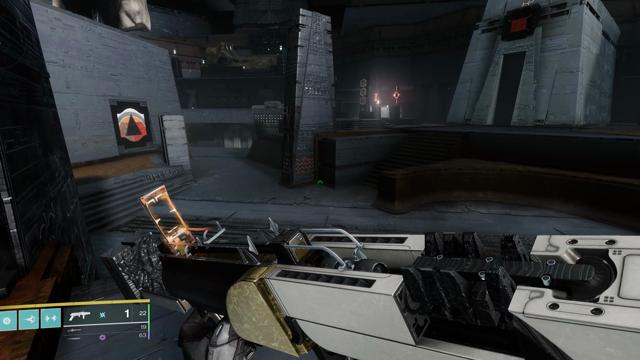pyramid: (117, 108, 147, 141)
